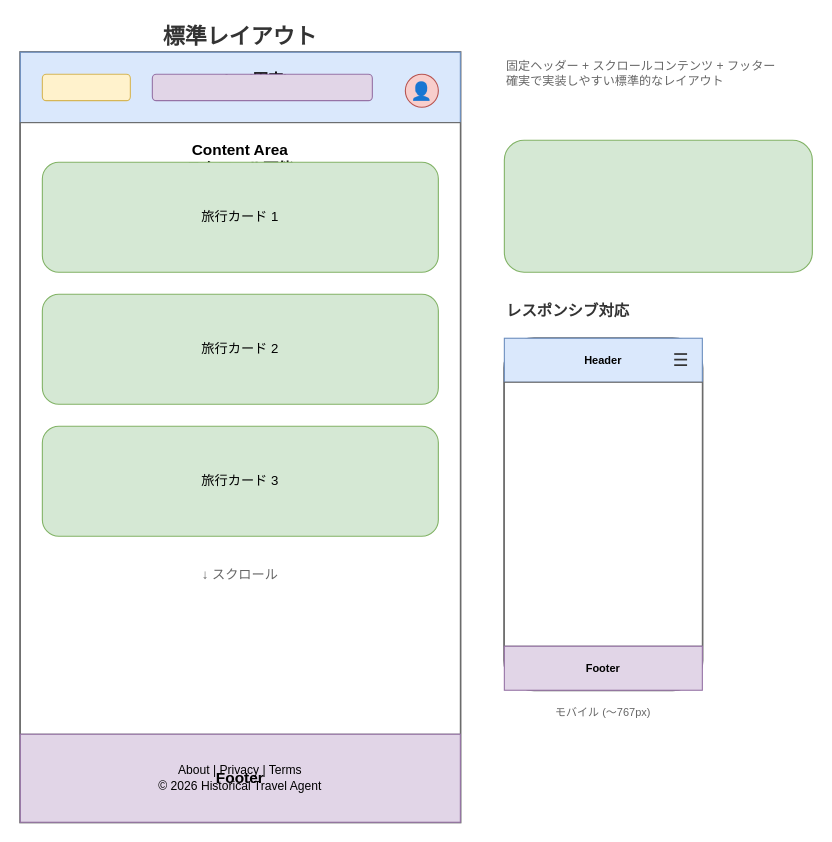
The diagram is 832 pixels wide and 842 high, and some of its shapes have lost their labels. The centre of each missing label's shape, as x and y in pixels:
Content: point (602, 513)
✓ 実装難易度: 低 ✓ モバイル対応: 良 ✓ パフォーマンス: 高 ✓ 開発期間: 短 ✓ 適用場面: MVP、確実性重視: point (657, 205)
ホーム | 旅行計画 | 振り返り: point (261, 87)
🏛️ Logo: point (85, 87)
